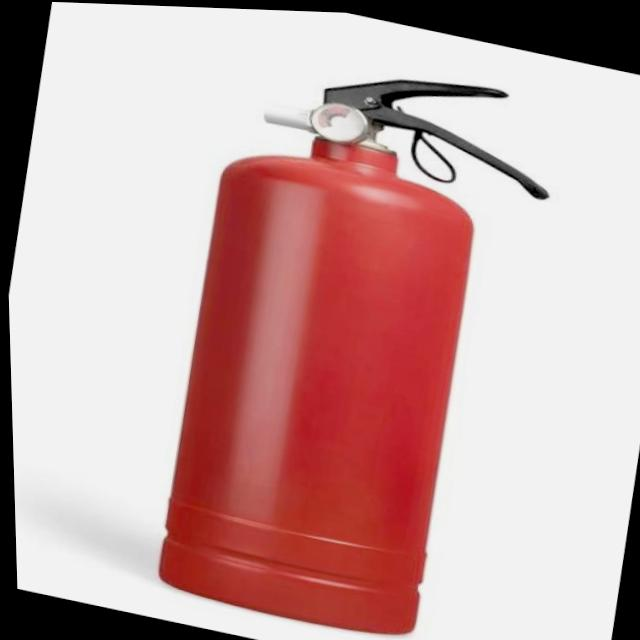FireExtinguisher: (121, 19, 586, 640)
